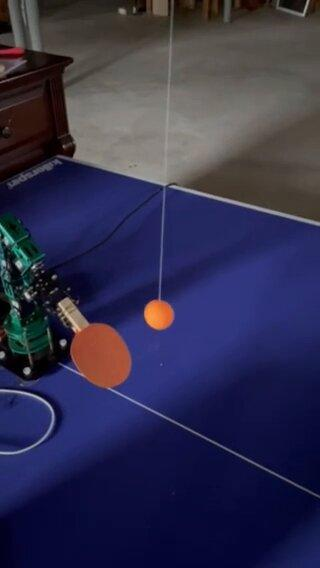oball: (145, 300, 173, 328)
